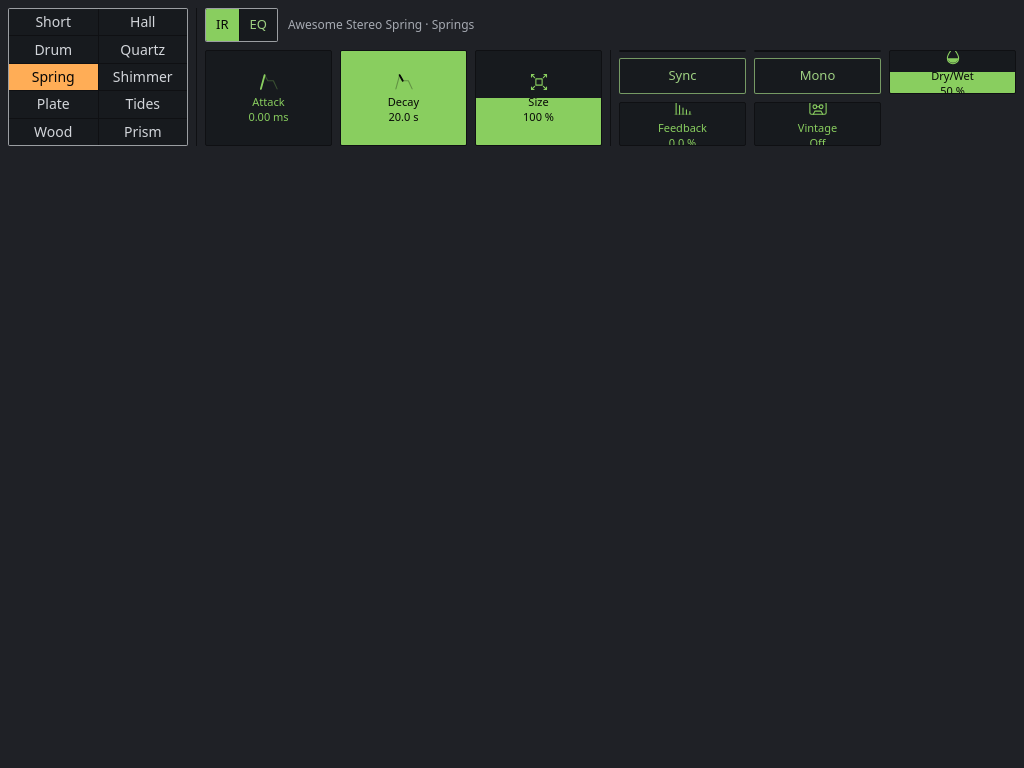
Test case: ReverbCentralView, convolution › keeps everything the device has besides the algorithm: the IR’s own, then the shared
Click the tab "EQ": (258, 25) [240, 9, 277, 41]
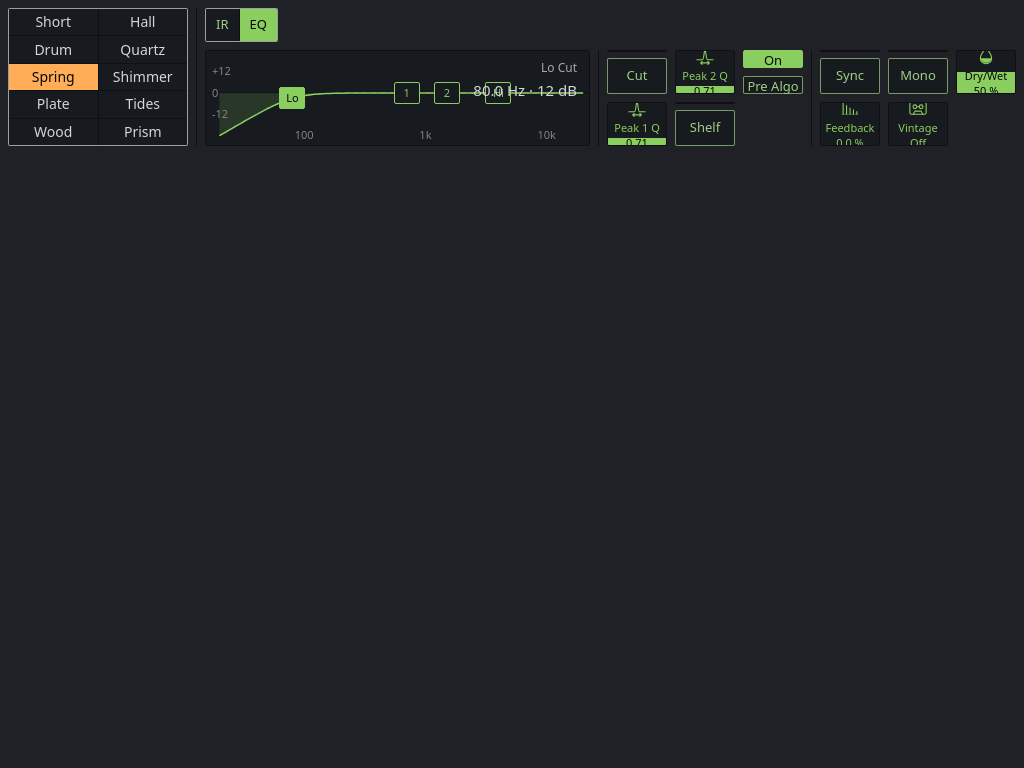
Expected: the element showing "+12 0 -12 100 1k 10k Lo 1 2 Hi Lo Cut 80.0 Hz · 12 dB" is shown, [205, 50, 590, 146]
